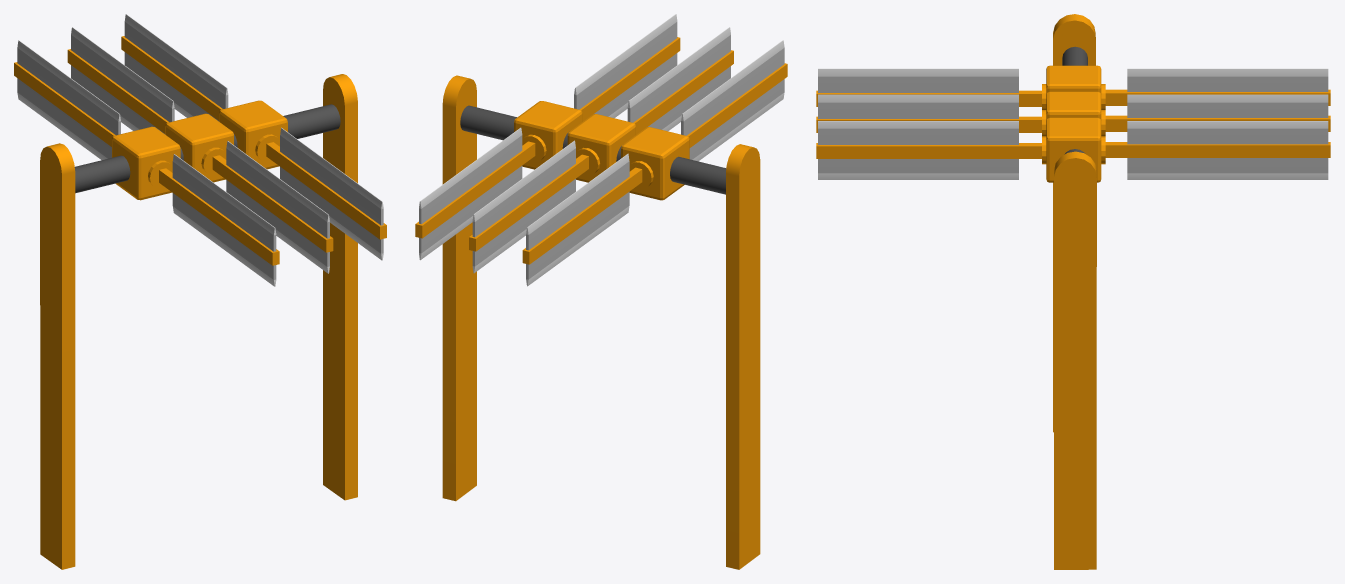
Rendered from trap_16.fbx.
3 views of the same model, side by side, from view 1: azimuth 30°, elevation 25°; view 2: azimuth 150°, elevation 25°; view 3: azimuth 270°, elevation 25° (orthographic).
Visible parts, largest first — view 1: trap_016_knife, trap_016; view 2: trap_016_knife, trap_016; view 3: trap_016_knife, trap_016.
Part boxes in pixels (x1=…): trap_016_knife: x1=14, y1=14, x2=386, y2=286; trap_016: x1=40, y1=74, x2=357, y2=569; trap_016_knife: x1=415, y1=14, x2=787, y2=286; trap_016: x1=442, y1=75, x2=760, y2=569; trap_016_knife: x1=816, y1=65, x2=1330, y2=182; trap_016: x1=1053, y1=14, x2=1096, y2=569.
Bounding box in the file's own units: 2394 × 3189 × 3610.
Materials: 1 (1 with a texture image).
